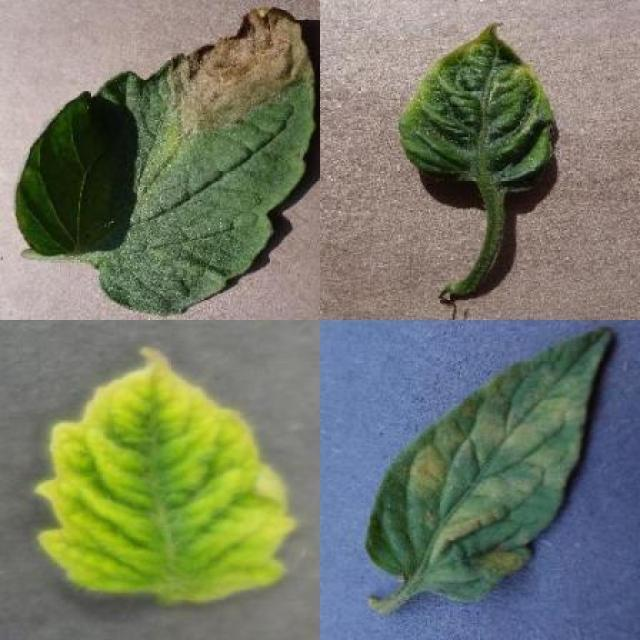Late Blight: (13, 7, 317, 313)
Leaf Mold: (365, 326, 612, 606)
Yellow Leaf Curl Virus: (33, 347, 300, 602), (397, 22, 559, 198)
